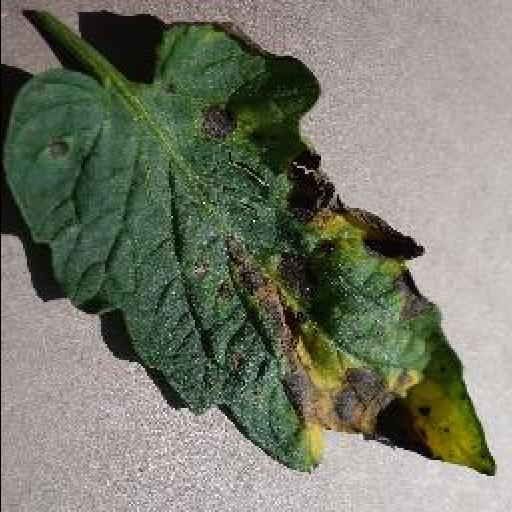disease_tomato: (0, 20, 494, 476)
